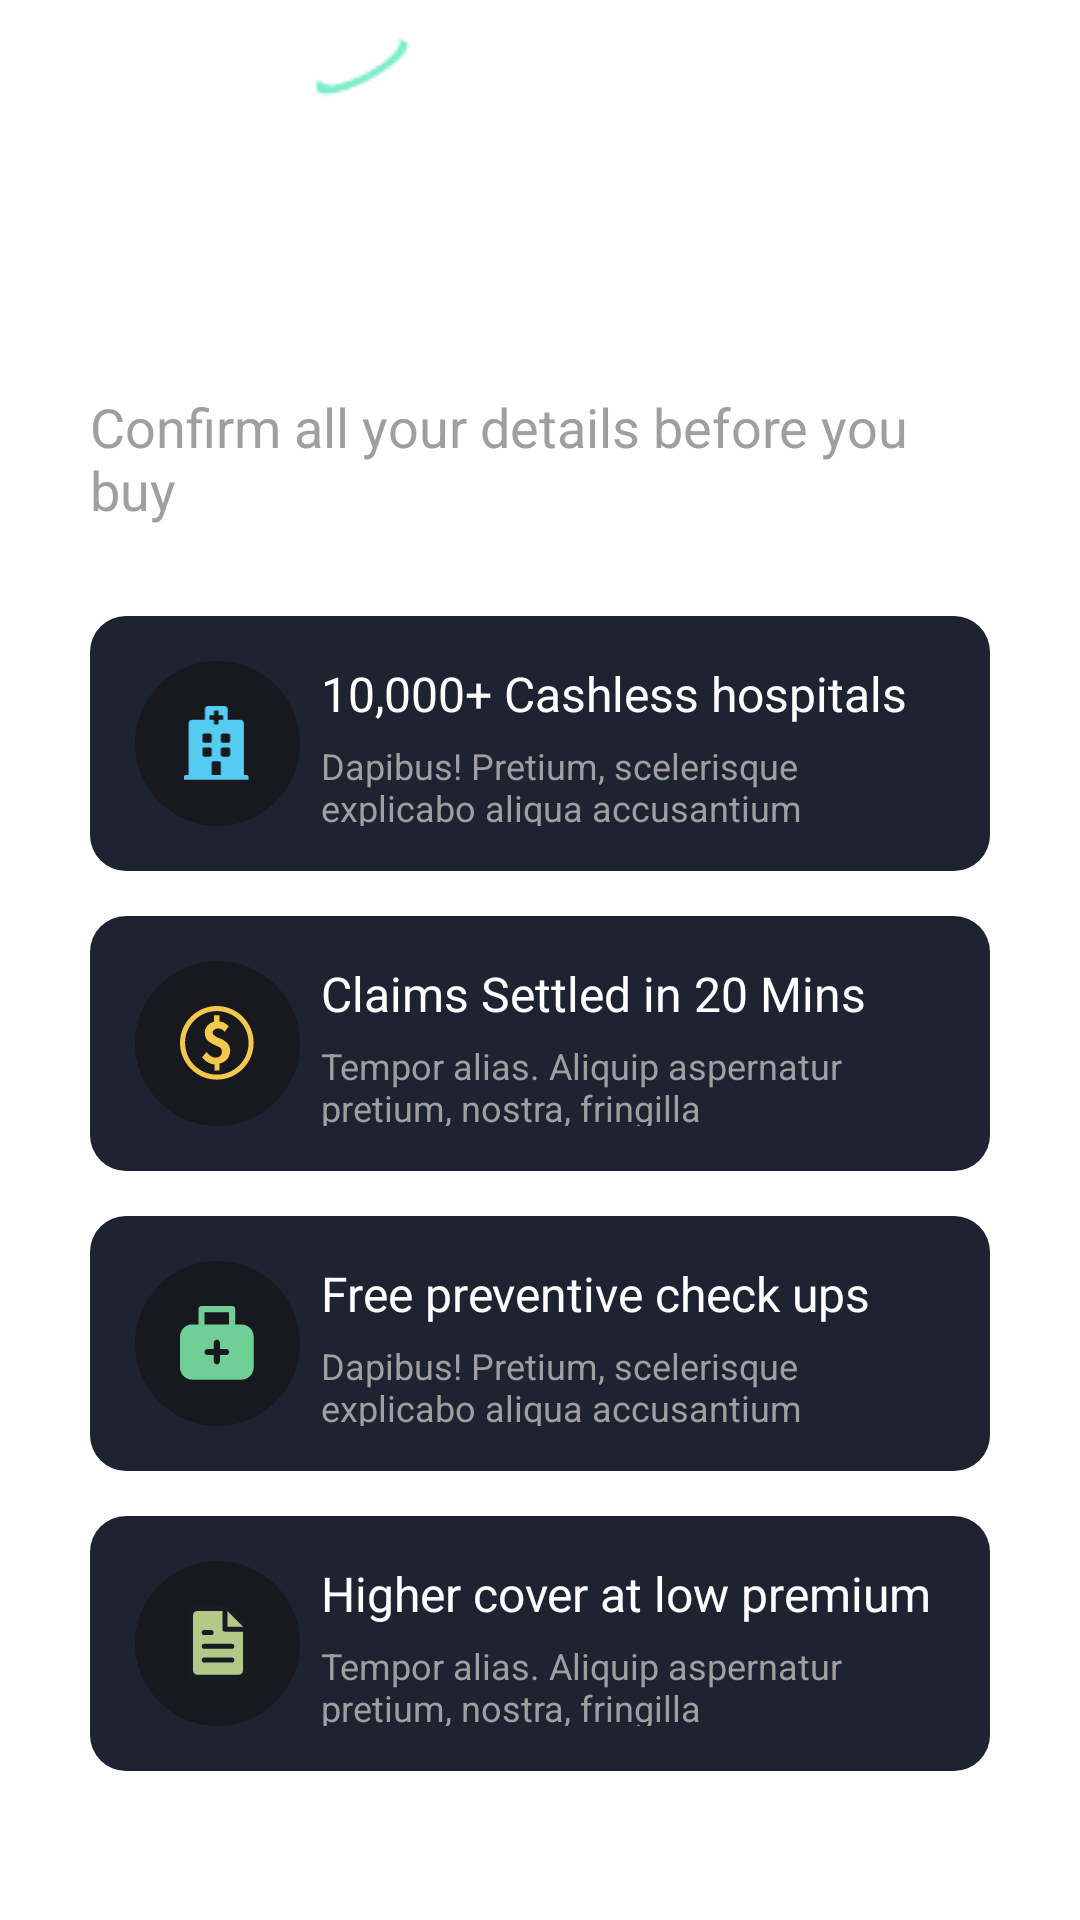

Icon bounding boxes for this 1080×1920 phone screenshot, format (x1, y1, x2, y2):
bag: (180, 1306, 254, 1380)
usd: (135, 961, 300, 1126)
